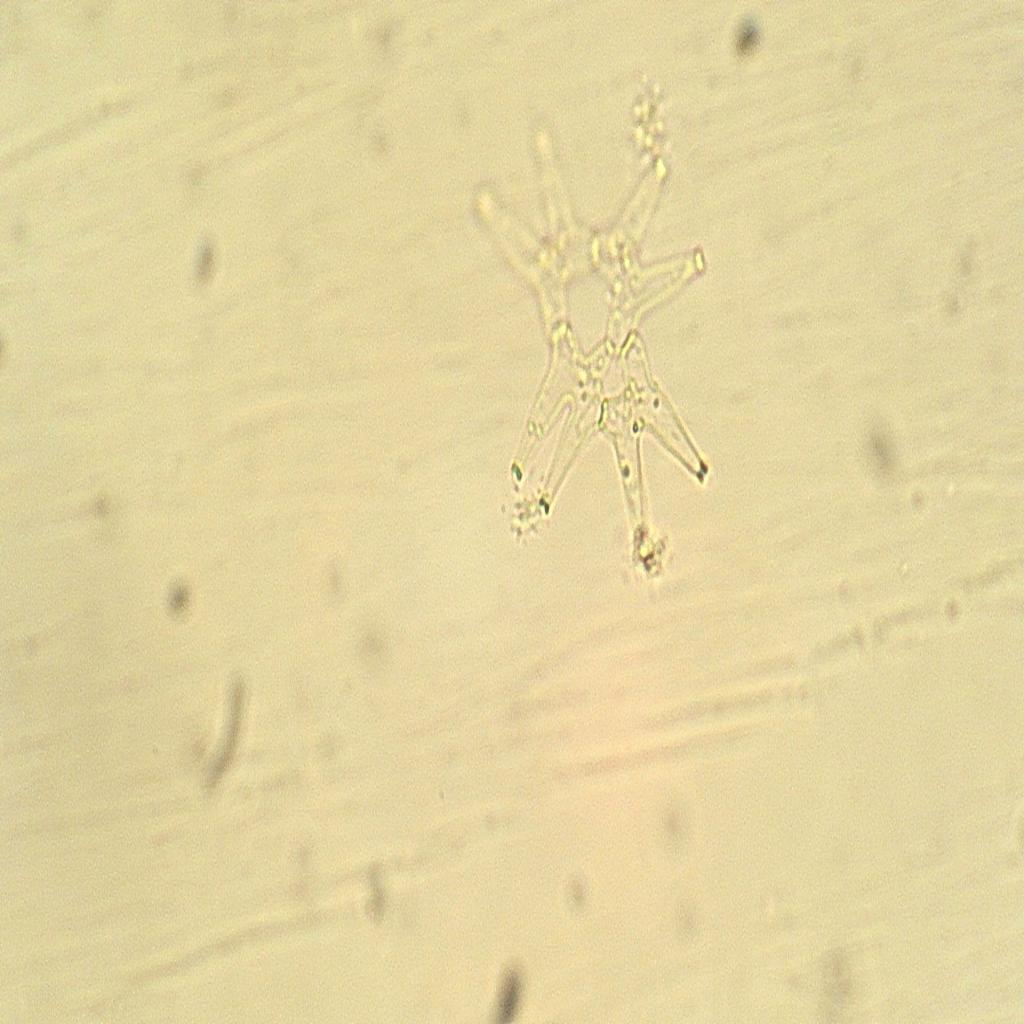Pediastrum_75TH: (459, 99, 741, 602)
